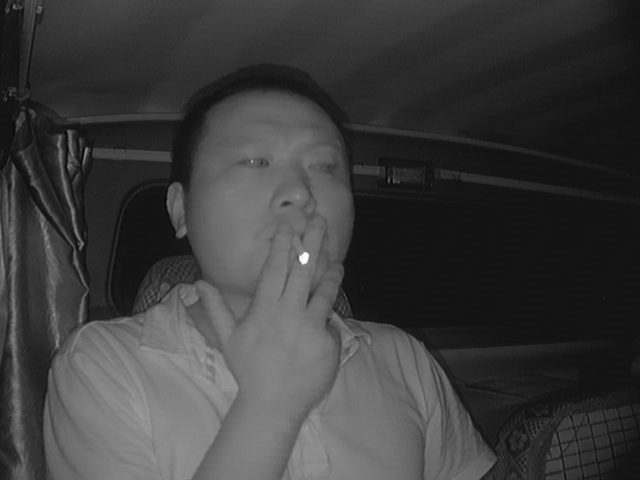hand: (249, 228, 349, 355)
